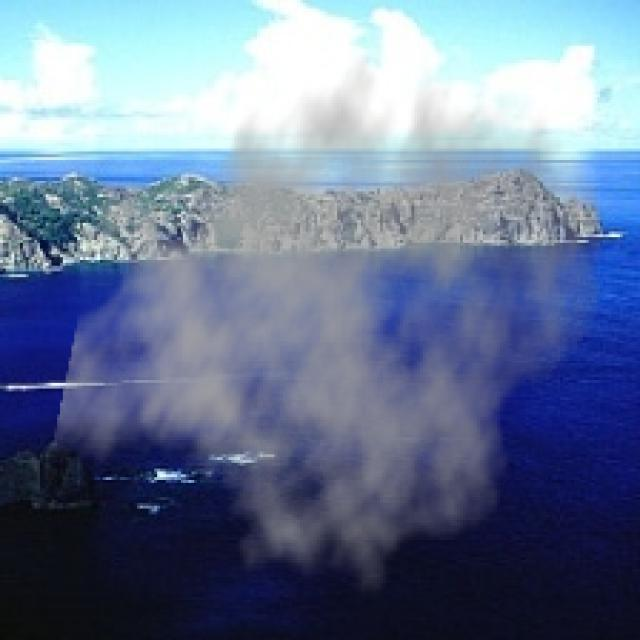Smoke: (51, 31, 608, 598)
